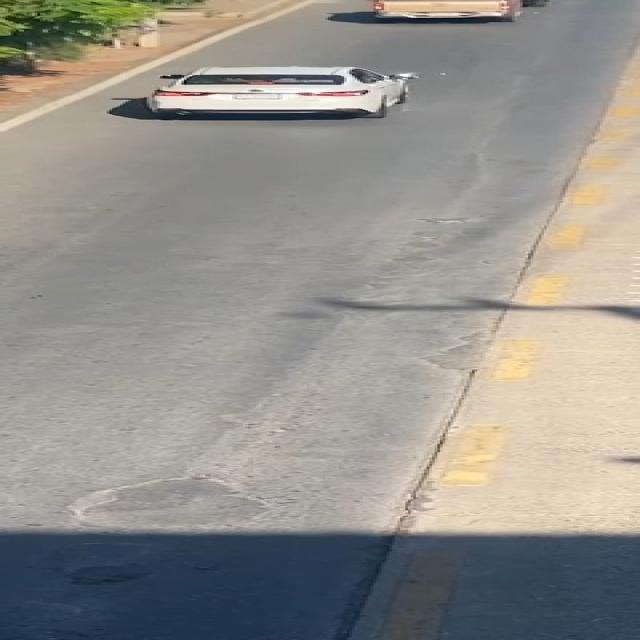car: (130, 58, 446, 126)
